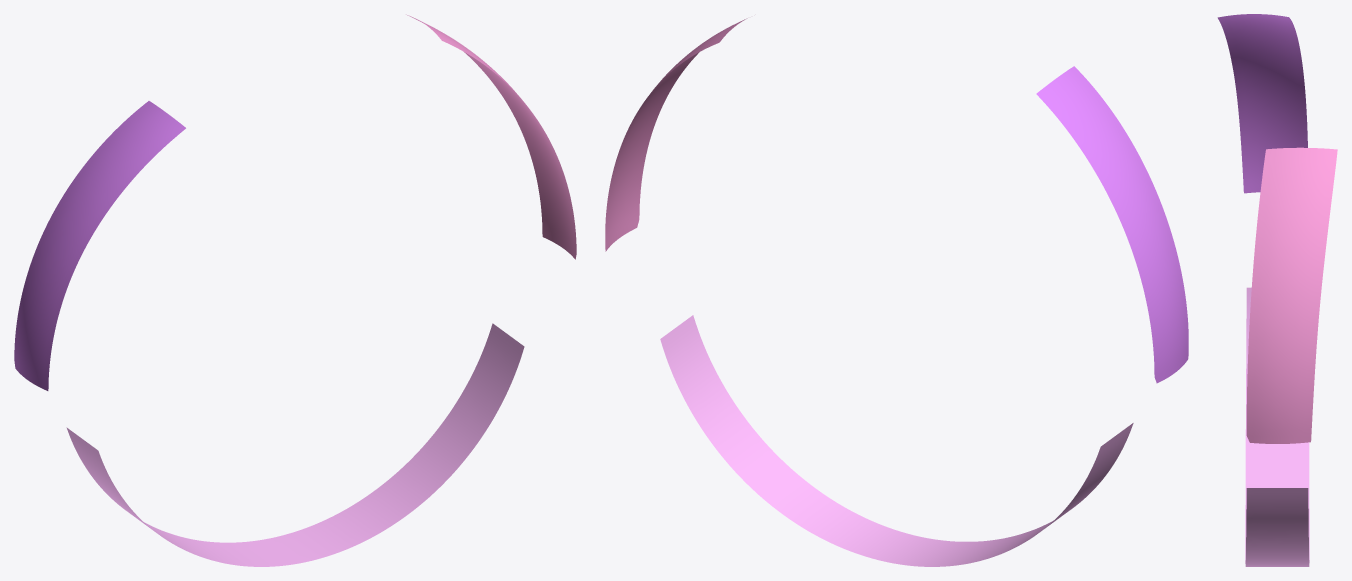
3 renders of one model, left to right at view 1: azimuth 30°, elevation 25°; view 2: azimuth 150°, elevation 25°; view 3: azimuth 270°, elevation 25°, orthographic. The views are drawn at different scales.
Parts seen in each view (by area): view 1: UV_3, UV_2, UV_1; view 2: UV_3, UV_2, UV_1; view 3: UV_1, UV_2, UV_3.
Part boxes in pixels (x1,y1,x2,y2): UV_3: (66, 323, 524, 566); UV_2: (14, 101, 185, 390); UV_1: (406, 14, 576, 259); UV_3: (660, 315, 1133, 566); UV_2: (1036, 66, 1188, 383); UV_1: (605, 18, 747, 251); UV_1: (1246, 147, 1337, 443); UV_2: (1217, 14, 1307, 193); UV_3: (1245, 287, 1309, 566).
Size of the model in its own units: 20.82 by 17.81 by 4.2.
